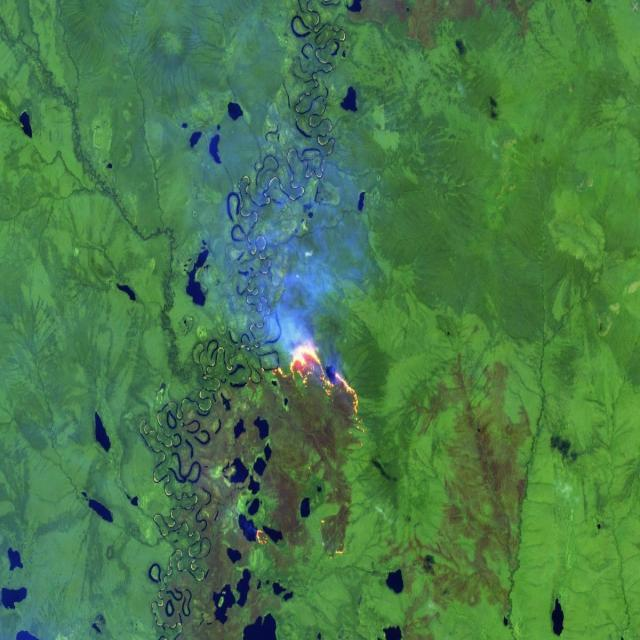fire: (242, 343, 372, 432), (251, 520, 275, 549)
